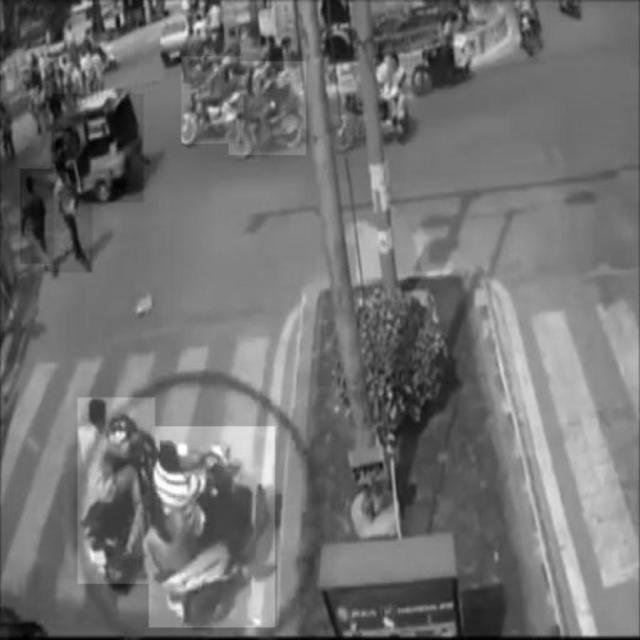person: (51, 163, 93, 273), (20, 169, 54, 263)
vehicle: (149, 427, 275, 628), (78, 398, 155, 584), (51, 94, 143, 202), (229, 62, 306, 155), (182, 57, 242, 145)
